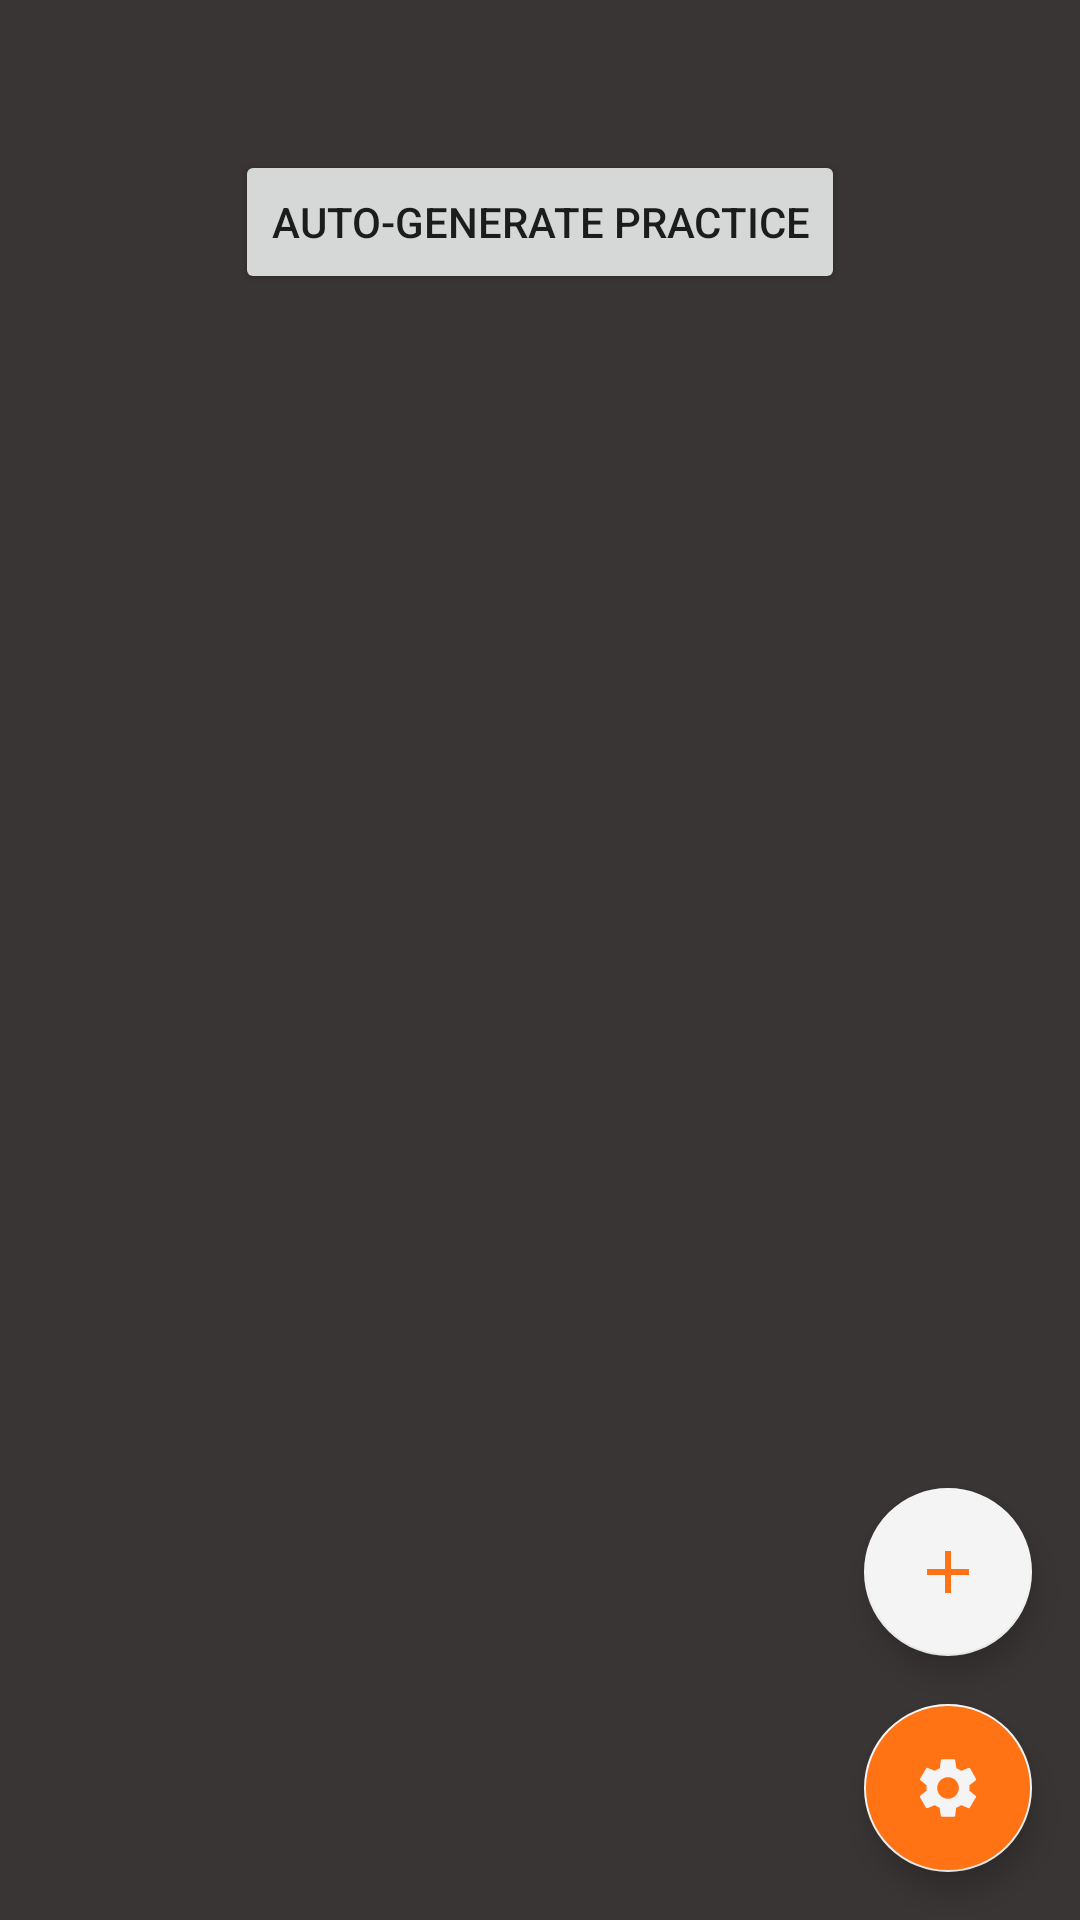

Named icons in this screenshot (1080×1920) and their bounding boxes, box=[x1, y1, x2, y2]:
add: box=[864, 1488, 1032, 1656]
